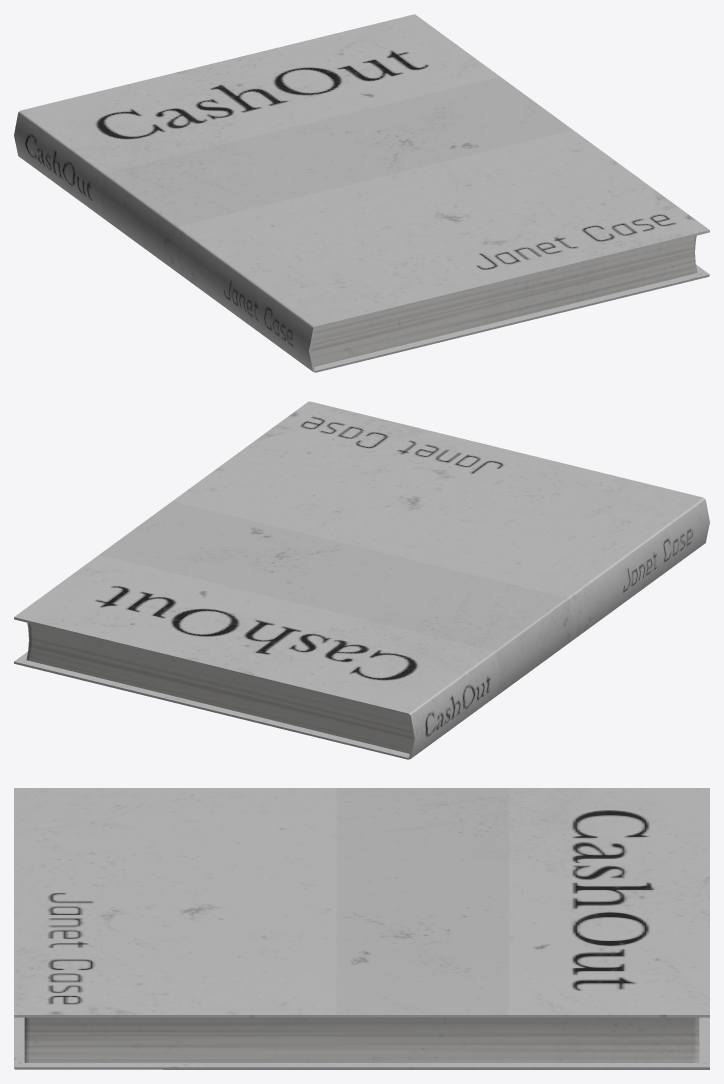
File: SM_BookD.fbx
The picture shows the model from 3 angles, top to bottom: view 1: azimuth 30°, elevation 25°; view 2: azimuth 150°, elevation 25°; view 3: azimuth 270°, elevation 25°; orthographic projection. The views are drawn at different scales.
Parts seen in each view (by area): view 1: SM_BookD_LOD0; view 2: SM_BookD_LOD0; view 3: SM_BookD_LOD0.
Part boxes in pixels (bbox=[...]): SM_BookD_LOD0: bbox=[14, 14, 709, 372]; SM_BookD_LOD0: bbox=[14, 401, 709, 759]; SM_BookD_LOD0: bbox=[14, 788, 709, 1069].
Bounding box in the file's own units: 21.31 × 27.16 × 2.37.
1 material, 1 textured.
